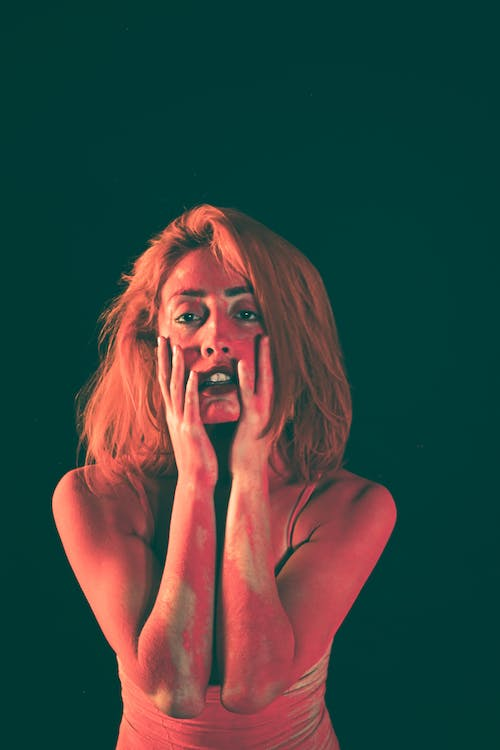blood: (67, 243, 298, 710)
